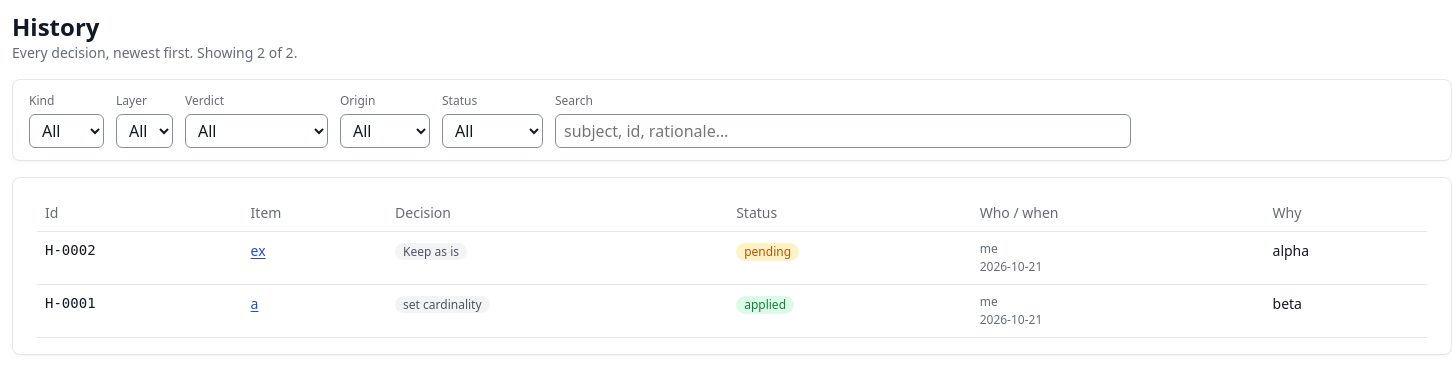
Test: history › filters by kind and status, and searches
Expected: the text "H-0002" is shown, [37,232,243,284]
Expected: the text with test id "count" reads "Showing 2 of 2.", [197,43,297,62]
Select "slot" in the dropdown labelled "Kind" at (66, 131), box [29,114,104,148]
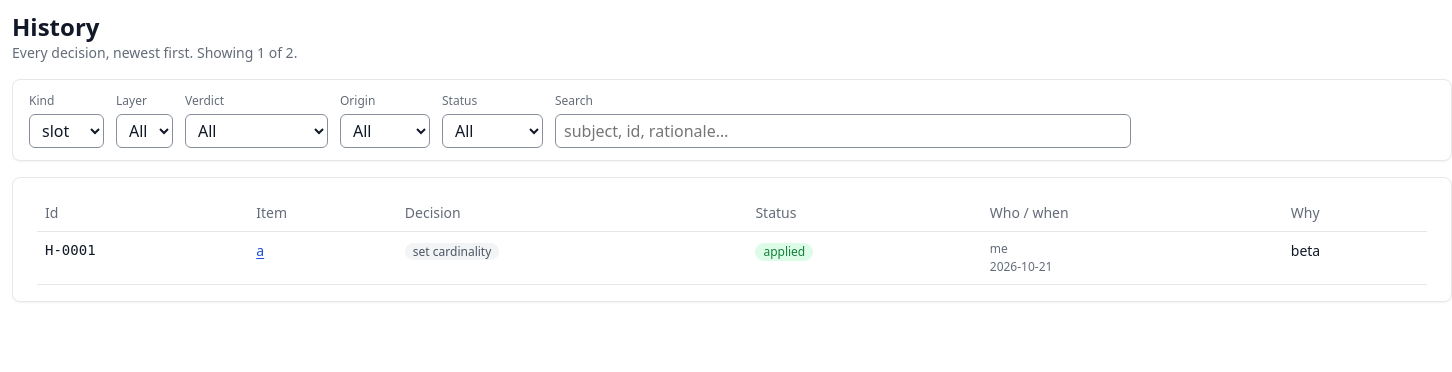
Result: the text with test id "count" reads "Showing 1 of 2." at [197,43,297,62]
Select "All" in the dropdown labelled "Kind" at (66, 131), box [29,114,104,148]
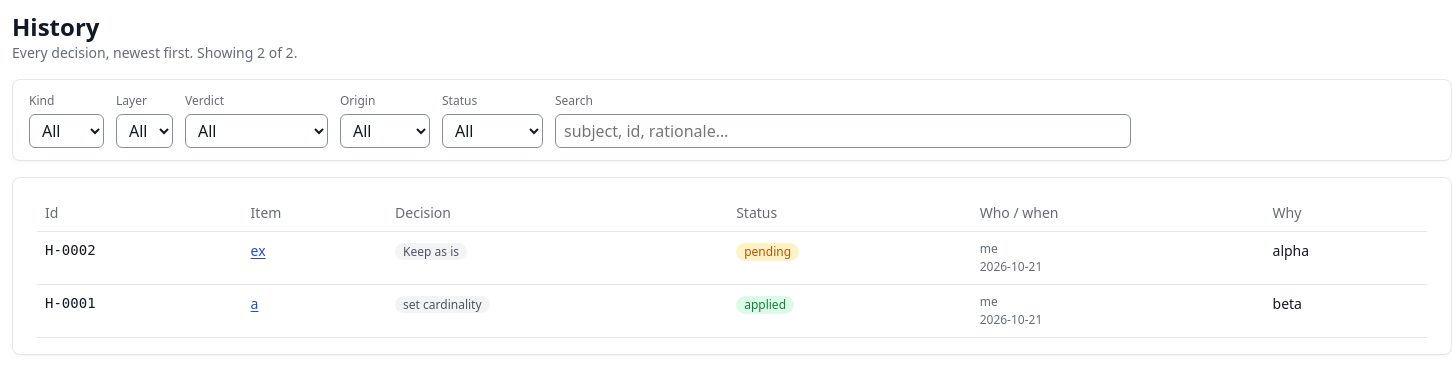
Select "pending" in the dropdown labelled "Status" at (492, 131), box [442,114,543,148]
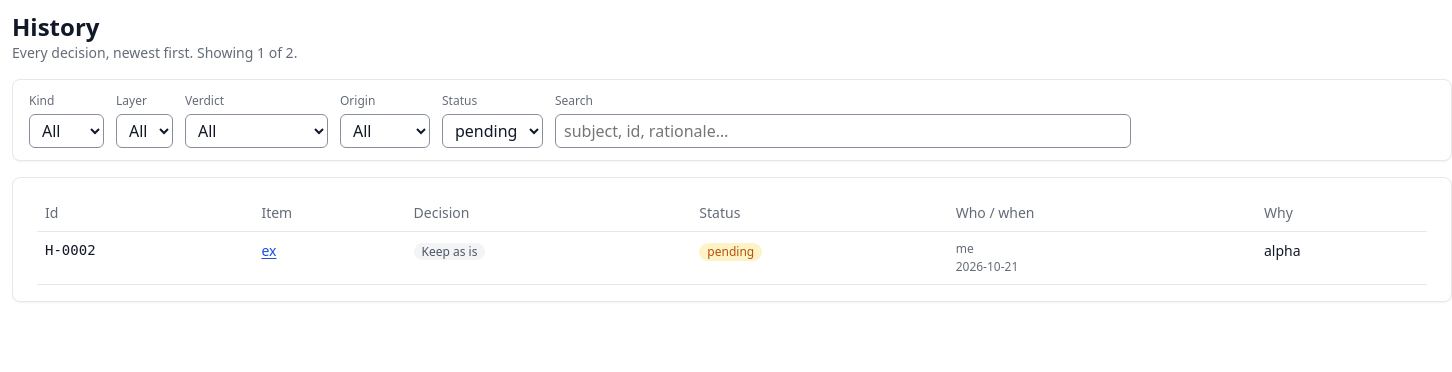
Result: the text with test id "count" reads "Showing 1 of 2." at [197,43,297,62]
Select "All" in the dropdown labelled "Status" at (492, 131), box [442,114,543,148]
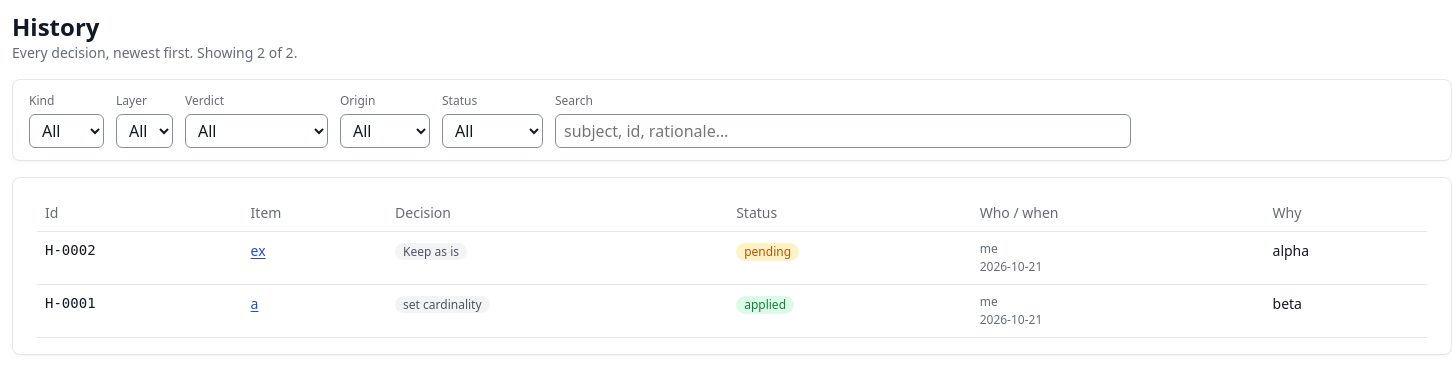
Type "BETA" into the search field labelled "Search" at (843, 131), box [555,114,1131,148]
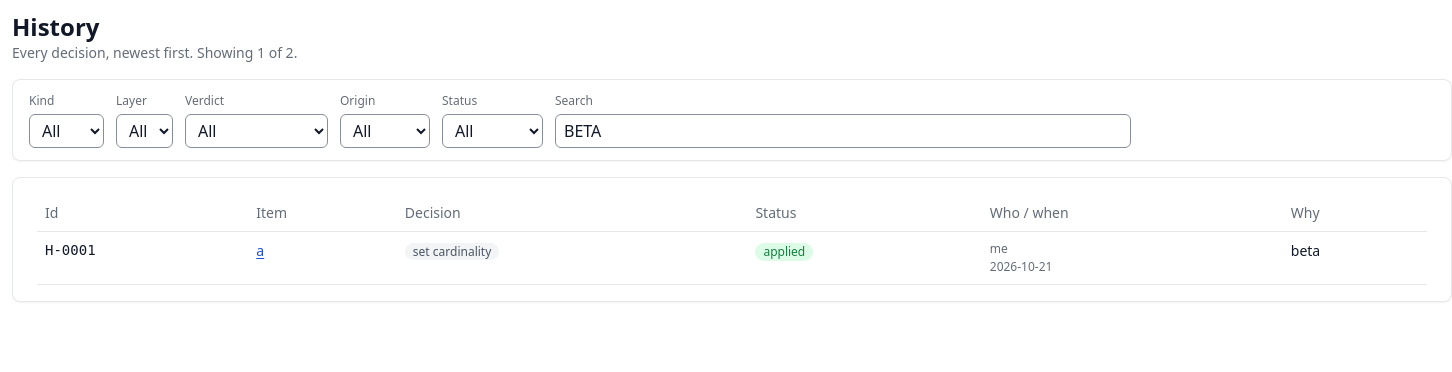
Result: the text with test id "count" reads "Showing 1 of 2." at [197,43,297,62]
Result: the text "H-0002" is gone
